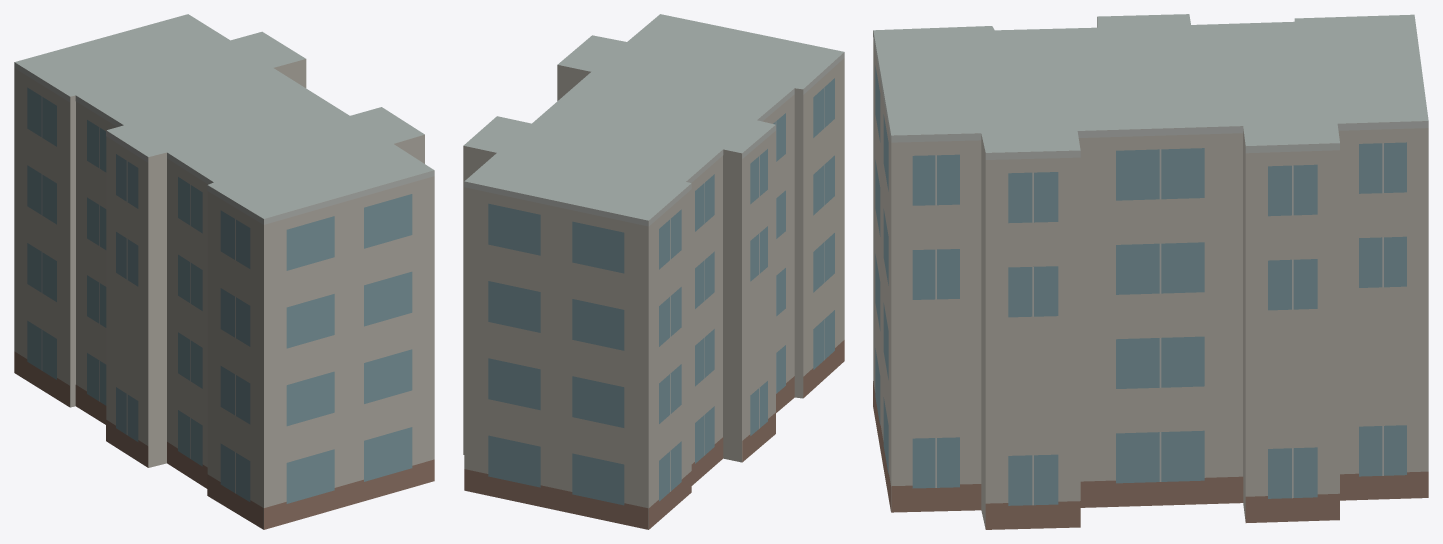
Rendered from survey-upis-32697549.glb.
The picture shows the model from 3 angles, left to right: view 1: azimuth 30°, elevation 25°; view 2: azimuth 150°, elevation 25°; view 3: azimuth 270°, elevation 25°; orthographic projection. The views are drawn at different scales.
Parts seen in each view (by area): view 1: survey-upis-32697549.tmp; view 2: survey-upis-32697549.tmp; view 3: survey-upis-32697549.tmp.
Part boxes in pixels (x1,y1,x2,y2): survey-upis-32697549.tmp: (14, 14, 434, 529); survey-upis-32697549.tmp: (463, 14, 844, 529); survey-upis-32697549.tmp: (873, 14, 1428, 529).
Size of the model in its own units: 10.21 by 12.9 by 17.24.
